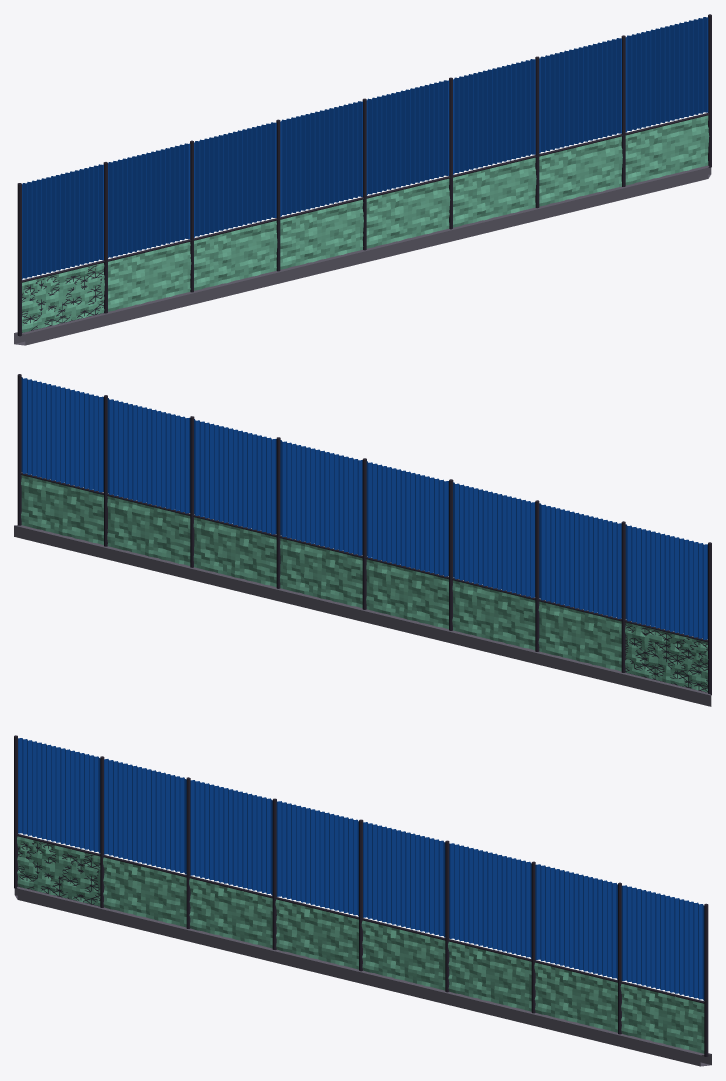
The model's file is 10 Fence_3.FBX.
3 renders of one model, top to bottom at view 1: azimuth 30°, elevation 25°; view 2: azimuth 150°, elevation 25°; view 3: azimuth 330°, elevation 25°, orthographic.
Parts seen in each view (by area): view 1: Fence001; view 2: Fence001; view 3: Fence001.
Boxes of the visible parts, x1,y1,x2,y2 form: Fence001: [14, 14, 711, 345]; Fence001: [14, 374, 711, 706]; Fence001: [14, 735, 711, 1066].
Size of the model in its own units: 9796 by 2165 by 101.
